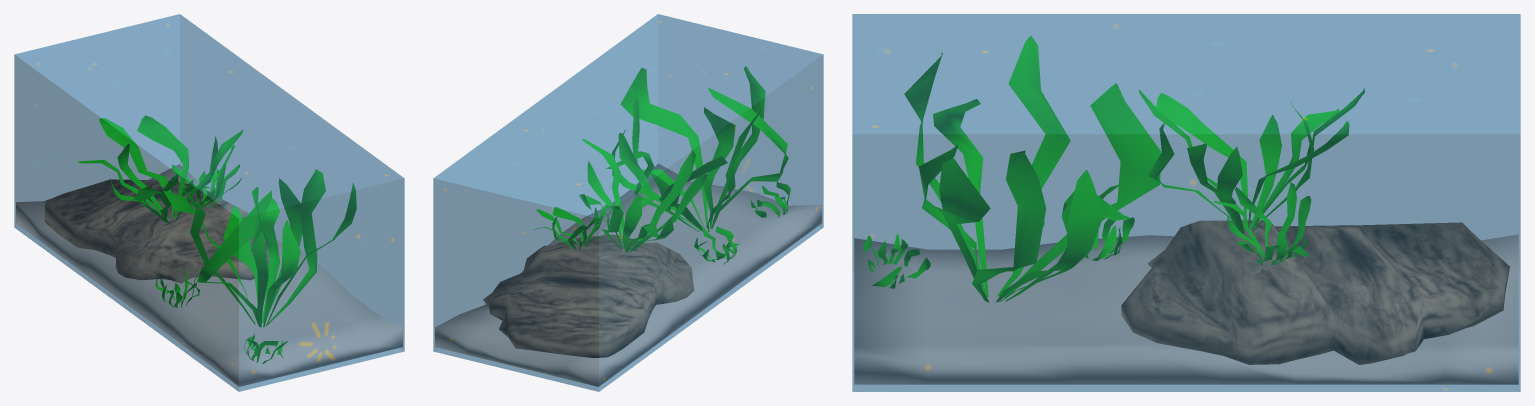
The model's file is pecera.obj.
3 views of the same model, side by side, from view 1: azimuth 30°, elevation 25°; view 2: azimuth 150°, elevation 25°; view 3: azimuth 270°, elevation 25° (orthographic). The views are drawn at different scales.
Parts seen in each view (by area): view 1: Aquarium_Aquarium, Dirt_Dirt, Root_Root, Algae2_Algae_1, Algae1_Algae_2; view 2: Aquarium_Aquarium, Dirt_Dirt, Root_Root, Algae2_Algae_1, Algae1_Algae_2; view 3: Aquarium_Aquarium, Dirt_Dirt, Root_Root, Algae2_Algae_1, Algae1_Algae_2.
Boxes of the visible parts, x1=… form: Aquarium_Aquarium: x1=14, y1=14, x2=404, y2=391; Dirt_Dirt: x1=16, y1=164, x2=402, y2=386; Root_Root: x1=44, y1=179, x2=269, y2=283; Algae2_Algae_1: x1=155, y1=169, x2=356, y2=363; Algae1_Algae_2: x1=78, y1=115, x2=242, y2=223; Aquarium_Aquarium: x1=433, y1=14, x2=823, y2=391; Dirt_Dirt: x1=435, y1=163, x2=821, y2=386; Root_Root: x1=483, y1=235, x2=694, y2=357; Algae2_Algae_1: x1=606, y1=66, x2=790, y2=264; Algae1_Algae_2: x1=534, y1=133, x2=706, y2=252; Aquarium_Aquarium: x1=852, y1=14, x2=1520, y2=391; Dirt_Dirt: x1=854, y1=234, x2=1518, y2=384; Root_Root: x1=1121, y1=220, x2=1509, y2=364; Algae2_Algae_1: x1=863, y1=36, x2=1161, y2=302; Algae1_Algae_2: x1=1139, y1=88, x2=1364, y2=264.
Size of the model in its own units: 2.02 by 2 by 4.7.
